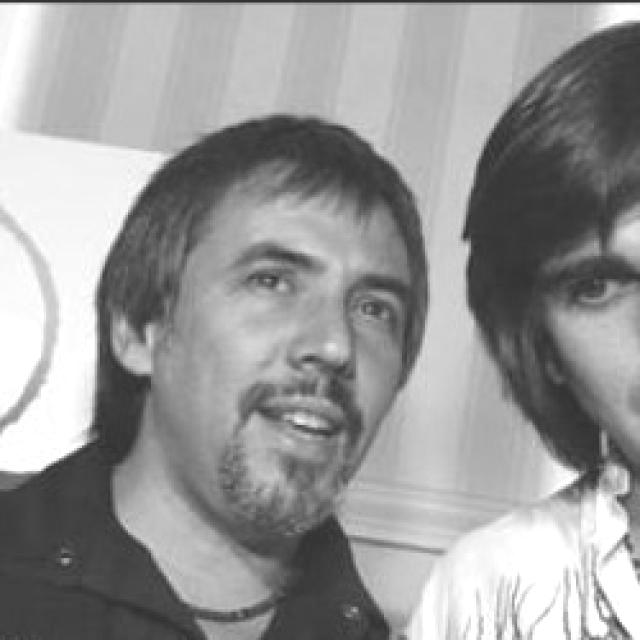real: (139, 150, 416, 524), (235, 251, 395, 342), (553, 254, 638, 312)
